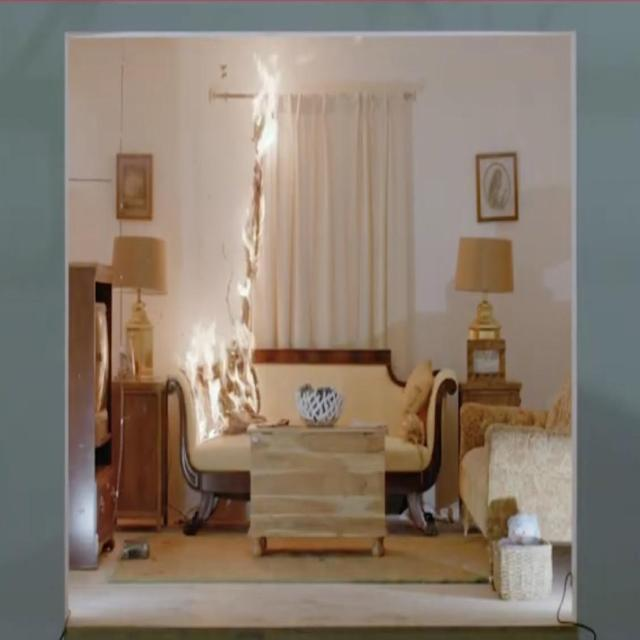smoke: (185, 54, 284, 440)
